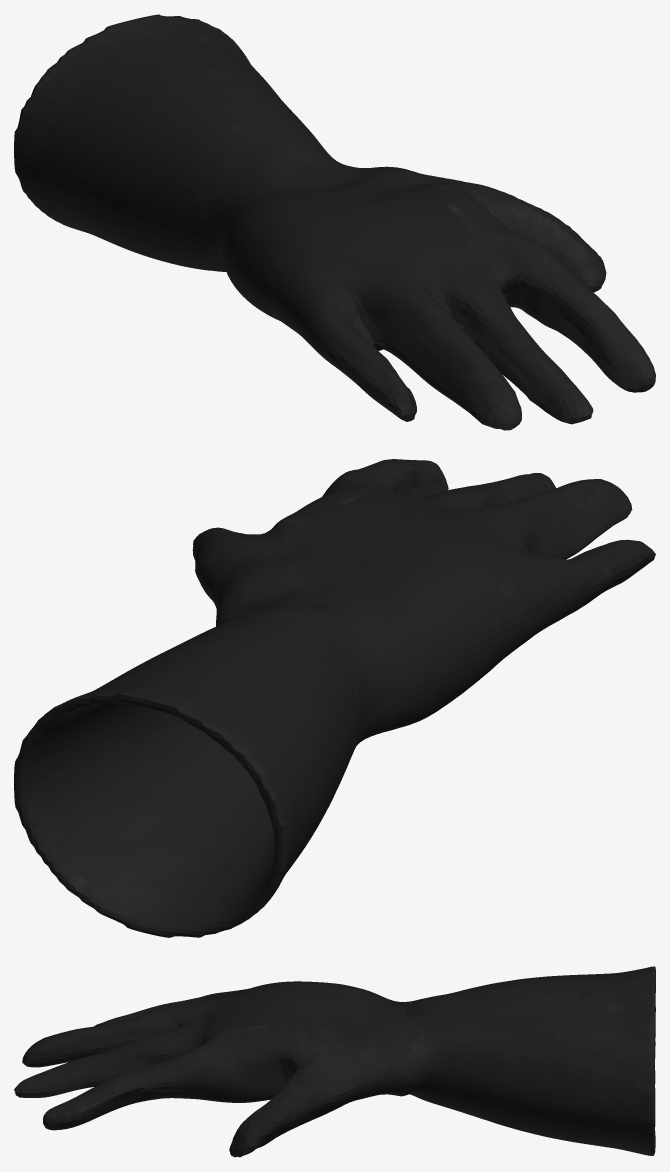
Rendered from Hand.fbx.
The picture shows the model from 3 angles, top to bottom: view 1: azimuth 30°, elevation 25°; view 2: azimuth 150°, elevation 25°; view 3: azimuth 270°, elevation 25°; orthographic projection. The views are drawn at different scales.
Parts seen in each view (by area): view 1: Icosphere.001; view 2: Icosphere.001; view 3: Icosphere.001.
Part boxes in pixels (x1,y1,x2,y2): Icosphere.001: (14,14,655,430); Icosphere.001: (14,459,655,937); Icosphere.001: (14,966,655,1157).
Bounding box in the file's own units: 15.48 × 9.19 × 32.34.
Materials: 1 (1 with a texture image).
